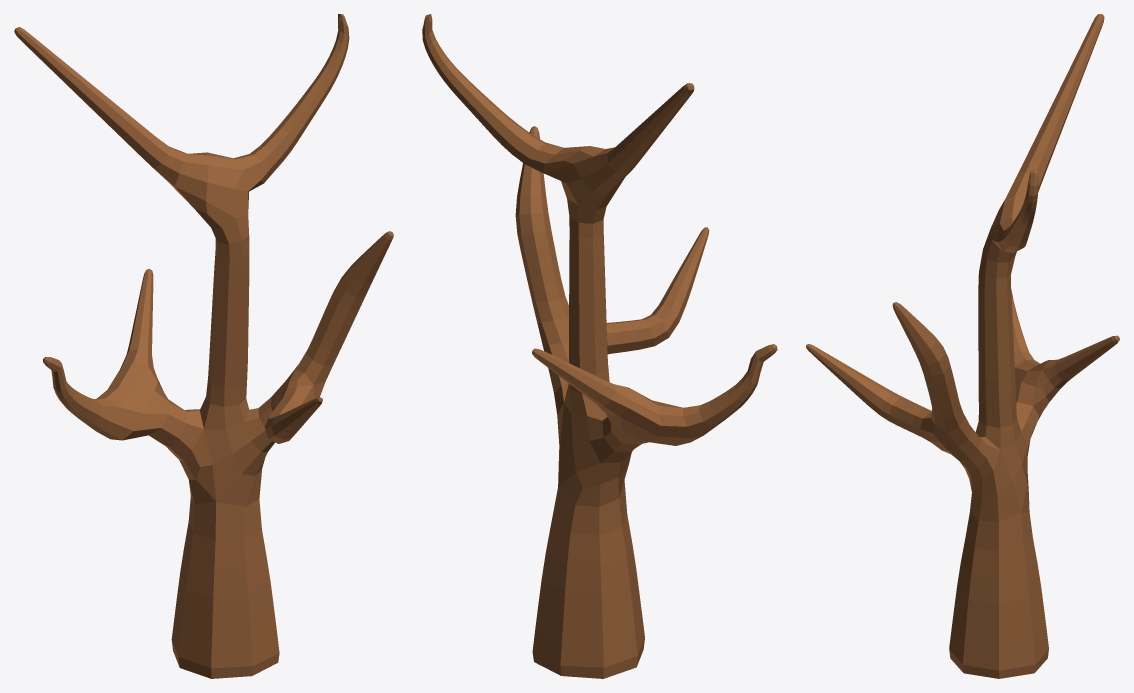
The model's file is Dry_Tree_02.fbx.
3 renders of one model, left to right at view 1: azimuth 30°, elevation 25°; view 2: azimuth 150°, elevation 25°; view 3: azimuth 270°, elevation 25°, orthographic. The views are drawn at different scales.
Parts seen in each view (by area): view 1: Dry_Tree_02; view 2: Dry_Tree_02; view 3: Dry_Tree_02.
Boxes of the visible parts, x1,y1,x2,y2 form: Dry_Tree_02: (14, 14, 393, 678); Dry_Tree_02: (422, 14, 777, 678); Dry_Tree_02: (806, 14, 1119, 678).
Size of the model in its own units: 248 by 462 by 228.
